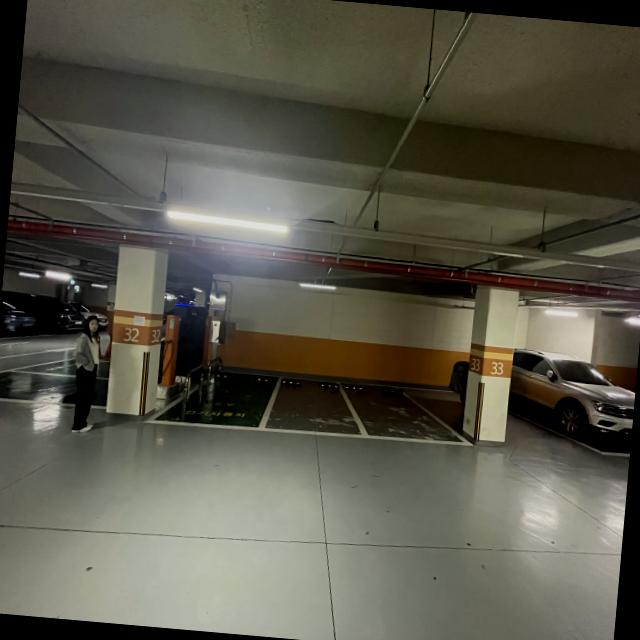free: (341, 379, 478, 445), (254, 370, 370, 442)
